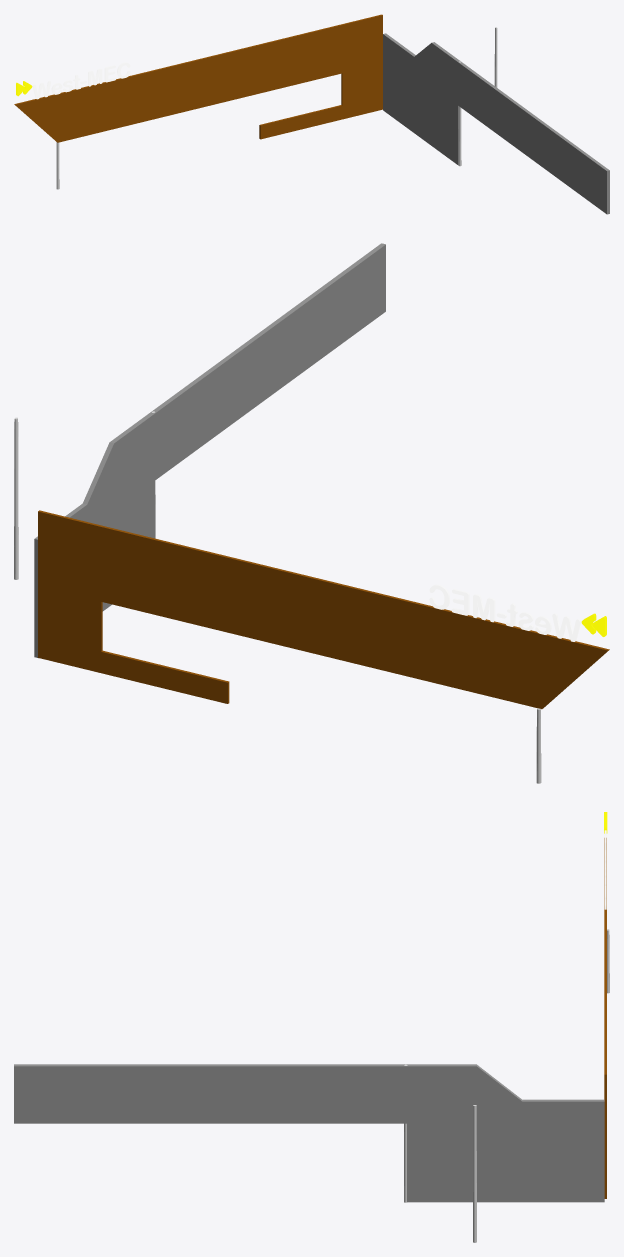
Rendered from largesign.glb.
3 views of the same model, one above another, from view 1: azimuth 30°, elevation 25°; view 2: azimuth 150°, elevation 25°; view 3: azimuth 270°, elevation 25° (orthographic). The views are drawn at different scales.
Visible parts, largest first — view 1: Cube, Cube.001, Text; view 2: Cube, Cube.001, Text, Cylinder.002; view 3: Cube.001, Cube.
Boxes of the visible parts, x1,y1,x2,y2 form: Cube: (14, 14, 382, 142); Cube.001: (383, 33, 609, 214); Text: (32, 62, 130, 99); Cube: (38, 510, 609, 709); Cube.001: (34, 243, 385, 658); Text: (429, 584, 580, 641); Cylinder.002: (14, 417, 18, 579); Cube.001: (14, 1064, 604, 1202); Cube: (604, 838, 606, 1198).
Size of the model in its own units: 2.55 by 0.654 by 2.3.
